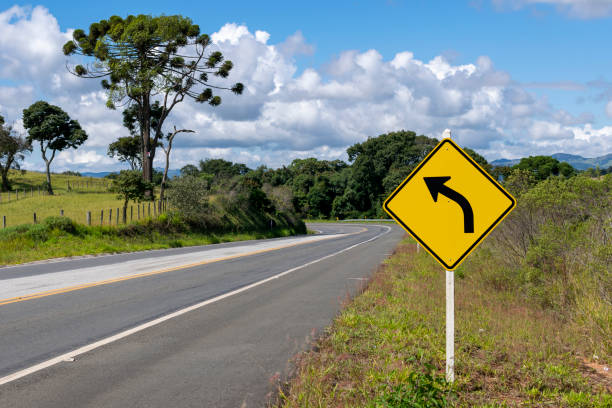left turn: (385, 138, 517, 272)
